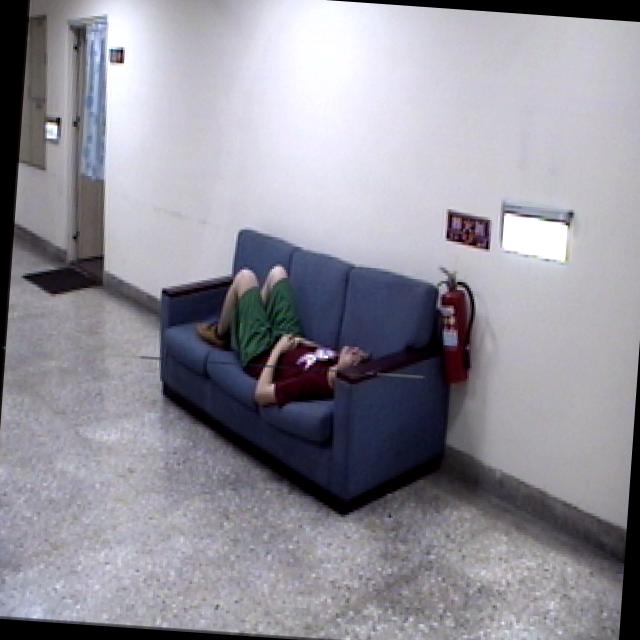lie: (186, 251, 384, 418)
